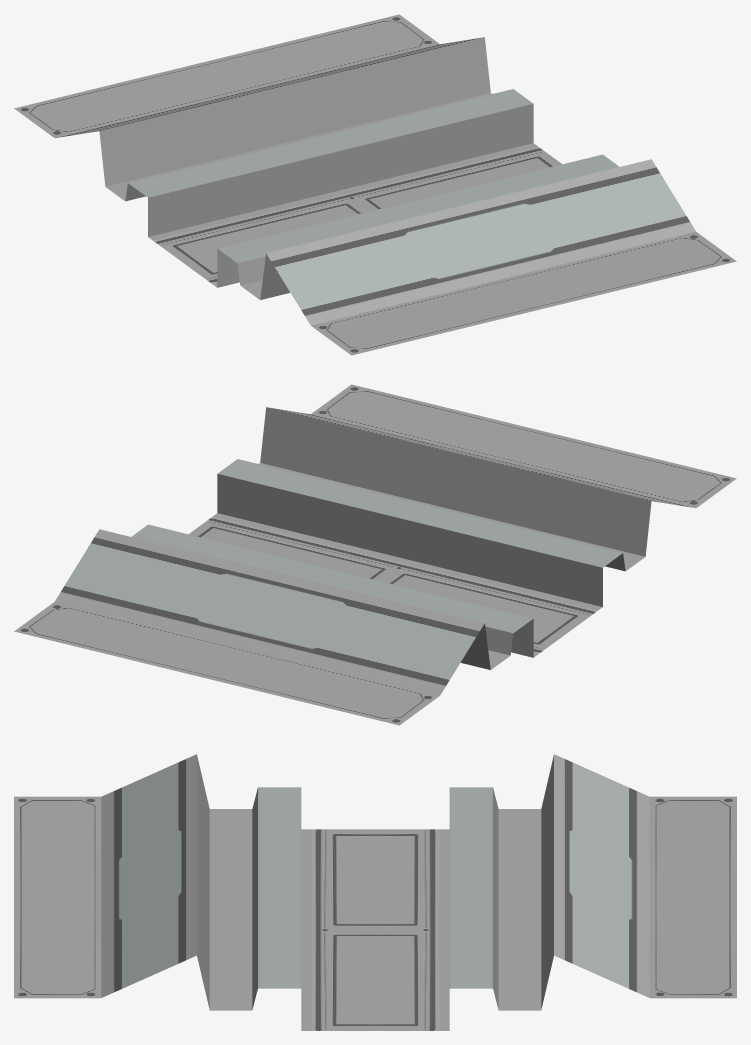
Rendered from B_ceiling_mid.fbx.
3 views of the same model, one above another, from view 1: azimuth 30°, elevation 25°; view 2: azimuth 150°, elevation 25°; view 3: azimuth 270°, elevation 25° (orthographic). The views are drawn at different scales.
Parts seen in each view (by area): view 1: Object162; view 2: Object162; view 3: Object162.
Part boxes in pixels (box(x1,y1,x2,y2)): Object162: box(14, 14, 736, 355); Object162: box(14, 384, 736, 725); Object162: box(14, 754, 736, 1030).
Bounding box in the file's own units: 200 × 34.85 × 303.
